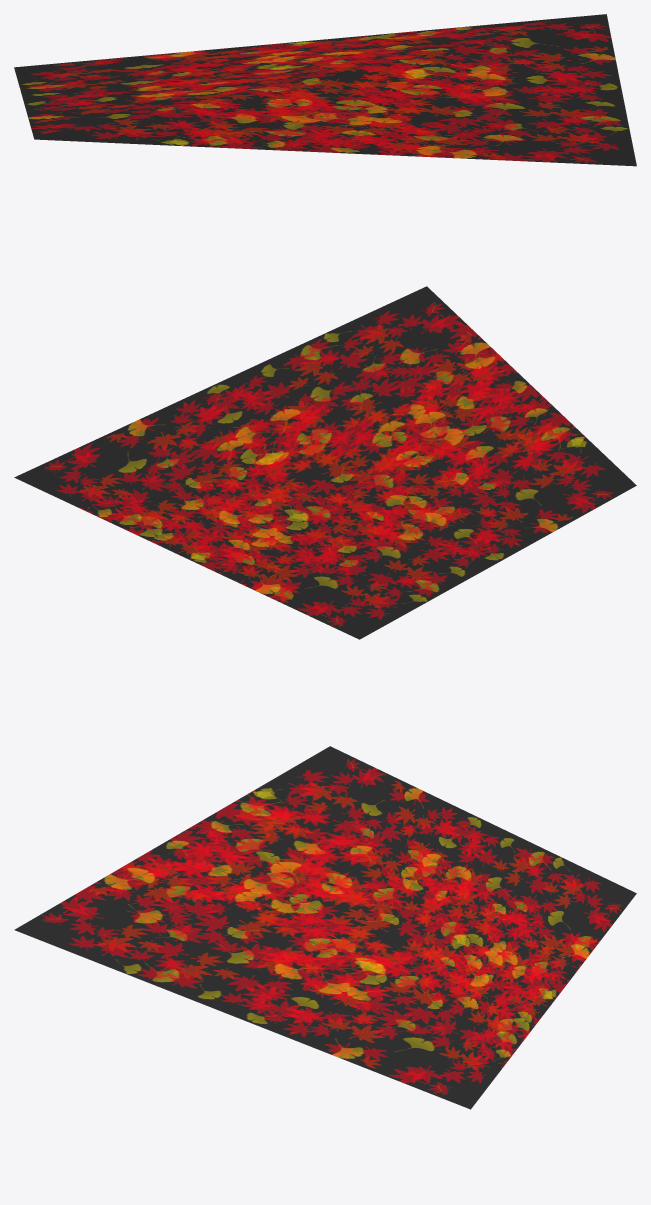
The model's file is CourseAki_CurveFloor_4_4.fbx.
3 views of the same model, one above another, from view 1: azimuth 30°, elevation 25°; view 2: azimuth 150°, elevation 25°; view 3: azimuth 270°, elevation 25° (orthographic). The views are drawn at different scales.
Parts seen in each view (by area): view 1: polySurface493; view 2: polySurface493; view 3: polySurface493.
Part boxes in pixels (bbox=[...]): polySurface493: bbox=[14, 14, 636, 166]; polySurface493: bbox=[14, 286, 636, 639]; polySurface493: bbox=[14, 746, 636, 1109].
Bounding box in the file's own units: 7.45 × 2 × 6.95.
1 material, 1 textured.
